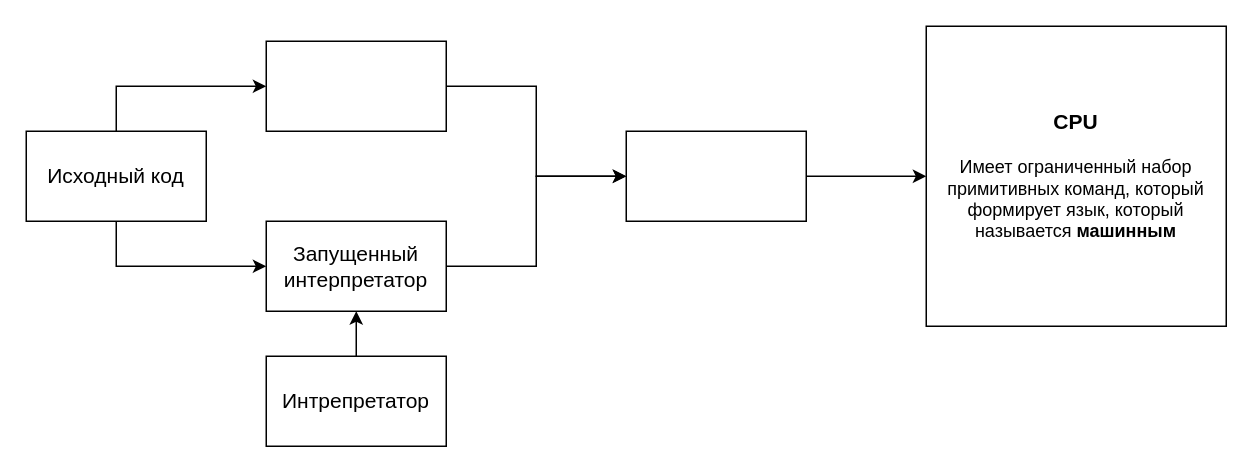
This 1253x473 diagram has some shape labels left out. Here are the shapes that lost their labels. From the top down, the centre of each, then its label:
point 355,85: Транслятор
point 715,175: Машинный код
